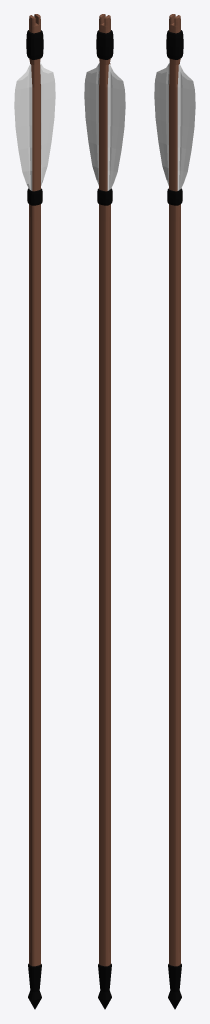
Rendered from AbrilGoicoechea_Flecha.fbx.
3 views of the same model, side by side, from view 1: azimuth 30°, elevation 25°; view 2: azimuth 150°, elevation 25°; view 3: azimuth 330°, elevation 25° (orthographic).
Visible parts, largest first — view 1: Flecha; view 2: Flecha; view 3: Flecha.
Part boxes in pixels (x1,y1,x2,y2): Flecha: [14, 14, 55, 1009]; Flecha: [84, 14, 125, 1009]; Flecha: [154, 14, 195, 1009].
Bounding box in the file's own units: 6.53 × 150 × 1.93.
